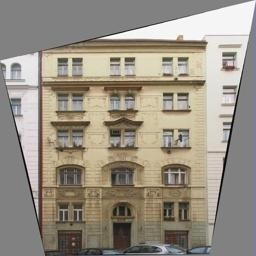building: (40, 26, 213, 256)
